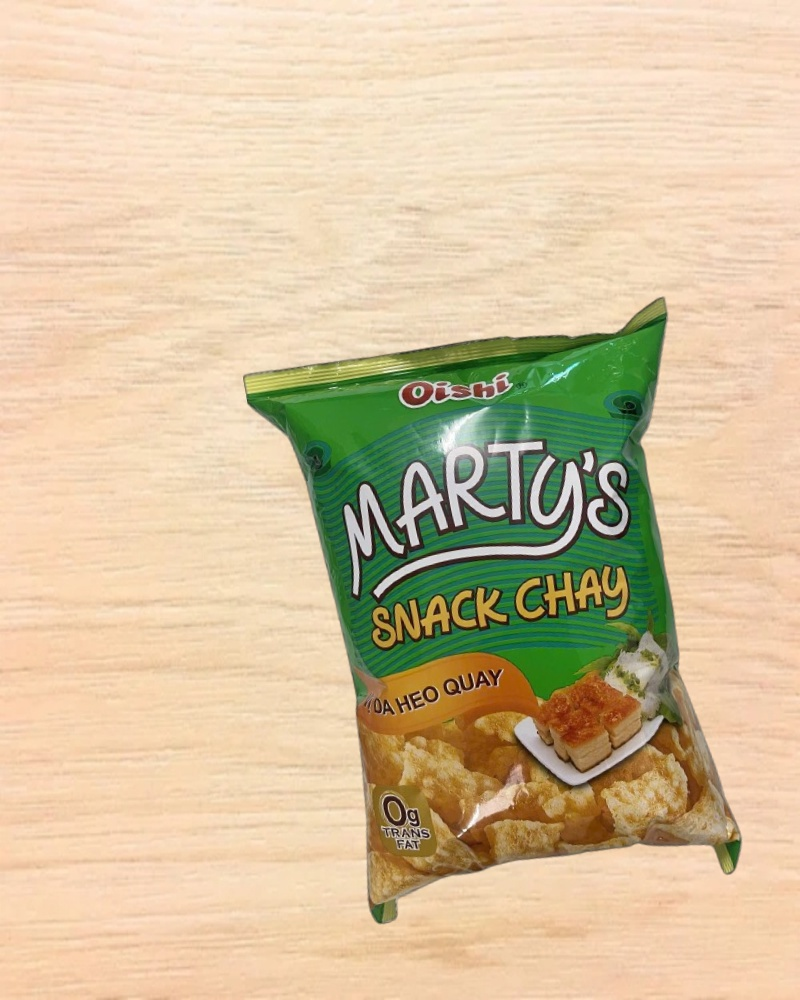Snack chay: (243, 297, 766, 943)
